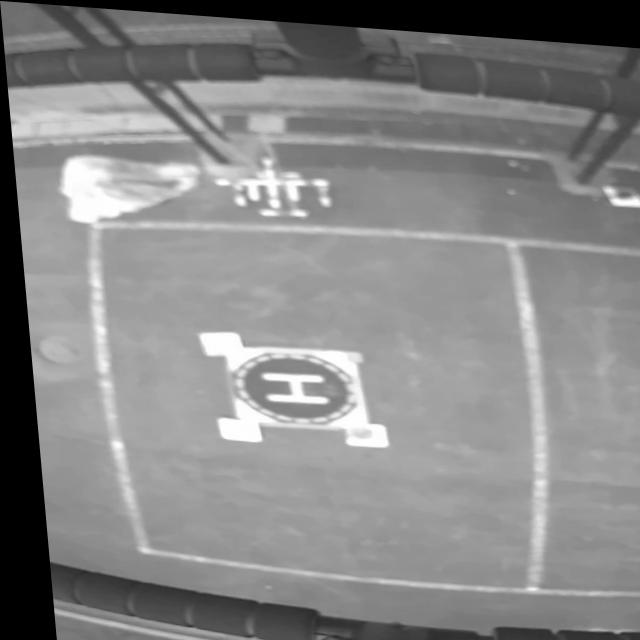Helipad: (254, 367, 322, 399)
